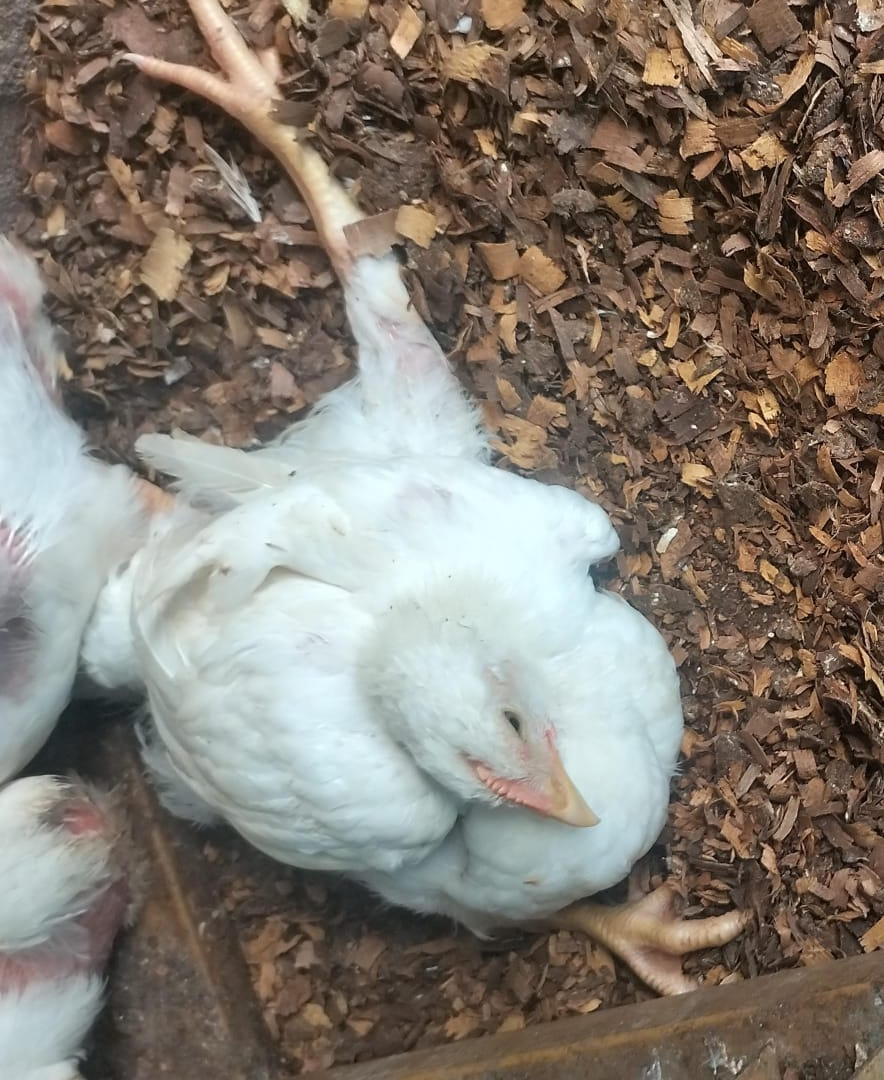Unhealthy: (100, 31, 737, 954)
